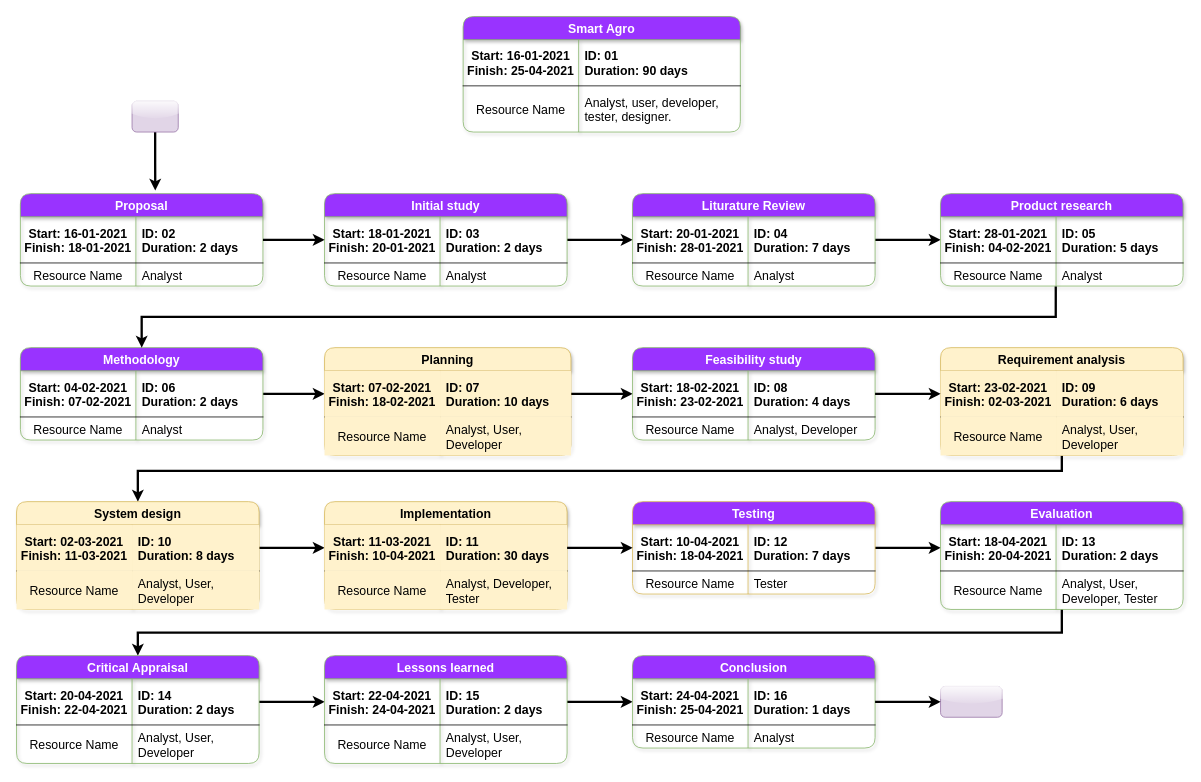
Image size: 1201x782. Some labels were removed from this diagram. Here are the shapes that lost their labels. From the top down, the centre of each, then its label:
pixel 154 116: Start
pixel 971 701: End
